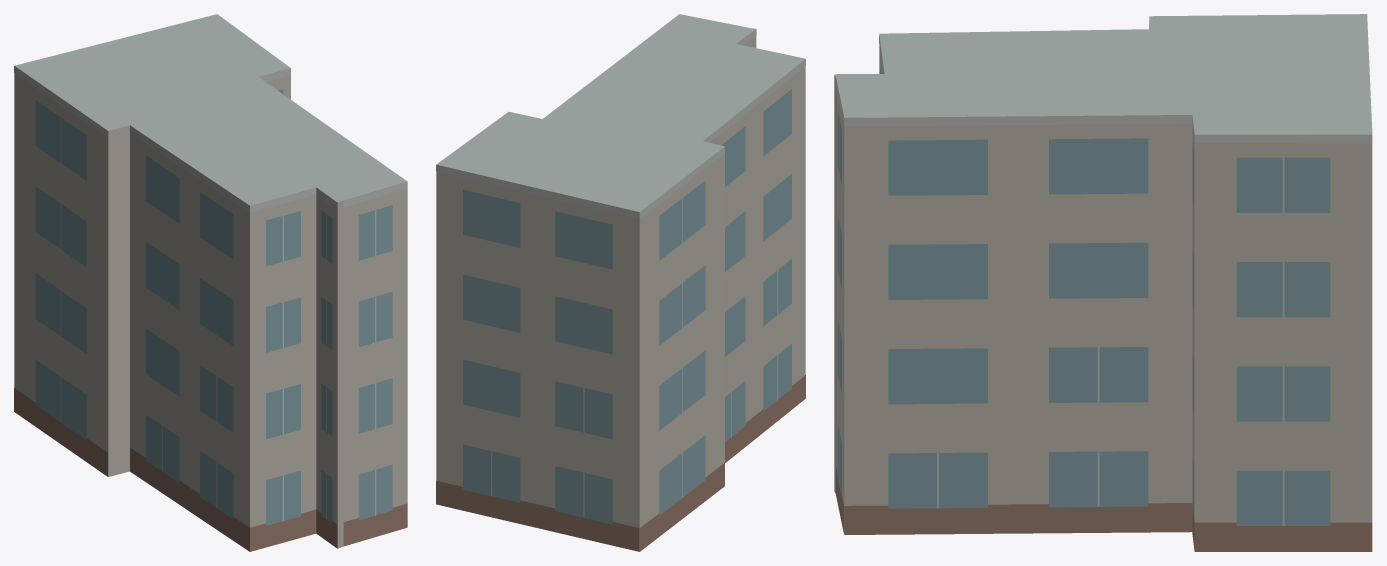
The model's file is survey-upis-32474675.glb.
3 views of the same model, side by side, from view 1: azimuth 30°, elevation 25°; view 2: azimuth 150°, elevation 25°; view 3: azimuth 270°, elevation 25° (orthographic). The views are drawn at different scales.
Visible parts, largest first — view 1: survey-upis-32474675.tmp; view 2: survey-upis-32474675.tmp; view 3: survey-upis-32474675.tmp.
Boxes of the visible parts, box(x1,y1,x2,y2) form: survey-upis-32474675.tmp: box(14, 14, 407, 551); survey-upis-32474675.tmp: box(436, 14, 805, 551); survey-upis-32474675.tmp: box(834, 14, 1372, 551).
Bounding box in the file's own units: 7.46 × 12 × 14.04.
